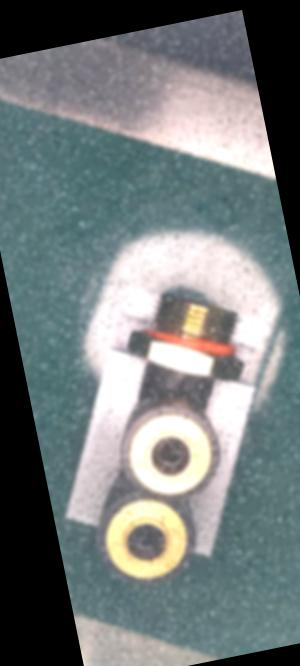craze: (175, 369, 192, 396)
